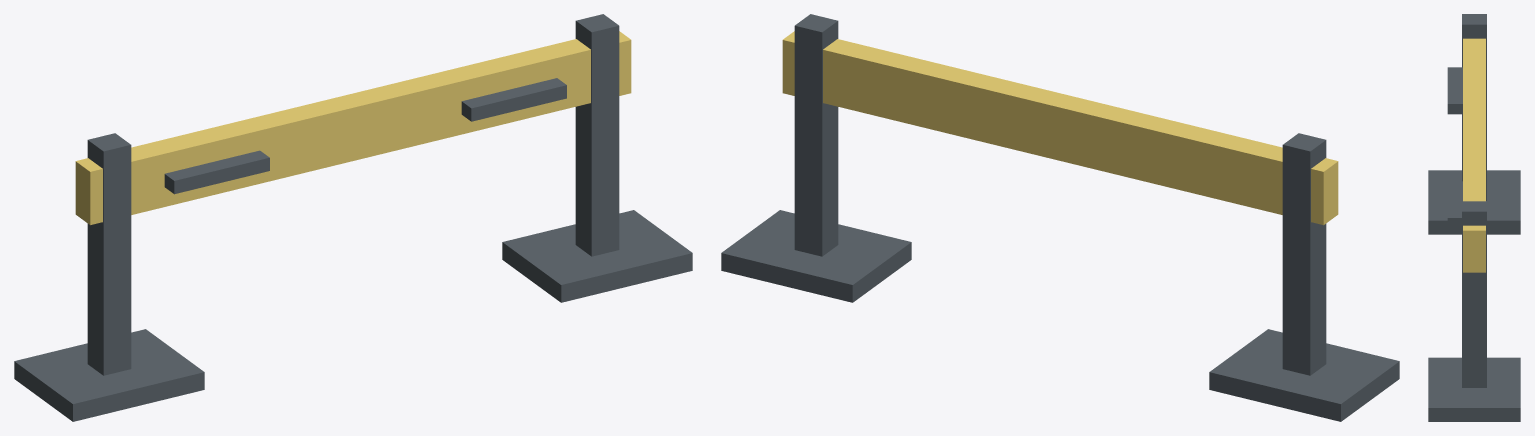
The model's file is barrier_lod1.glb.
The picture shows the model from 3 angles, left to right: view 1: azimuth 30°, elevation 25°; view 2: azimuth 150°, elevation 25°; view 3: azimuth 270°, elevation 25°; orthographic projection. The views are drawn at different scales.
Visible parts, largest first — view 1: part_2, part_4, part_3, part_0, part_1, part_5, part_6; view 2: part_2, part_4, part_3, part_0, part_1; view 3: part_4, part_2, part_3, part_1, part_0, part_5, part_6.
Part boxes in pixels (x1,y1,x2,y2): part_2: [75, 31, 631, 225]; part_4: [502, 210, 692, 302]; part_3: [14, 329, 204, 421]; part_0: [87, 133, 131, 375]; part_1: [575, 14, 619, 256]; part_5: [164, 150, 269, 194]; part_6: [461, 78, 566, 121]; part_2: [782, 31, 1338, 225]; part_4: [721, 210, 911, 302]; part_3: [1209, 329, 1399, 421]; part_0: [1282, 133, 1326, 375]; part_1: [794, 14, 838, 256]; part_4: [1428, 357, 1520, 421]; part_2: [1463, 38, 1485, 272]; part_3: [1428, 170, 1520, 234]; part_1: [1462, 201, 1486, 387]; part_0: [1462, 14, 1486, 200]; part_5: [1447, 67, 1462, 114]; part_6: [1447, 181, 1462, 228].
Bounding box in the file's own units: 2.92 × 1.1 × 0.48.
